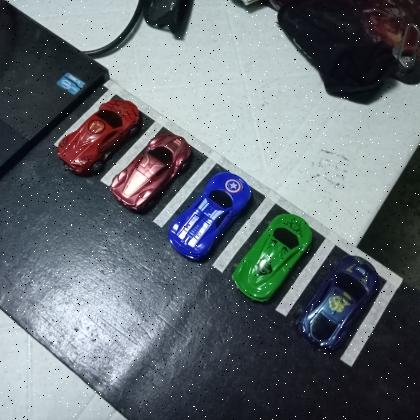Car: (296, 254, 380, 351), (168, 172, 253, 263), (231, 213, 313, 303), (56, 98, 142, 178), (108, 132, 192, 212)
